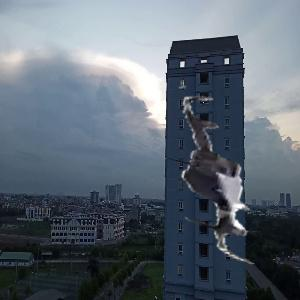drone: (130, 96, 296, 262)
